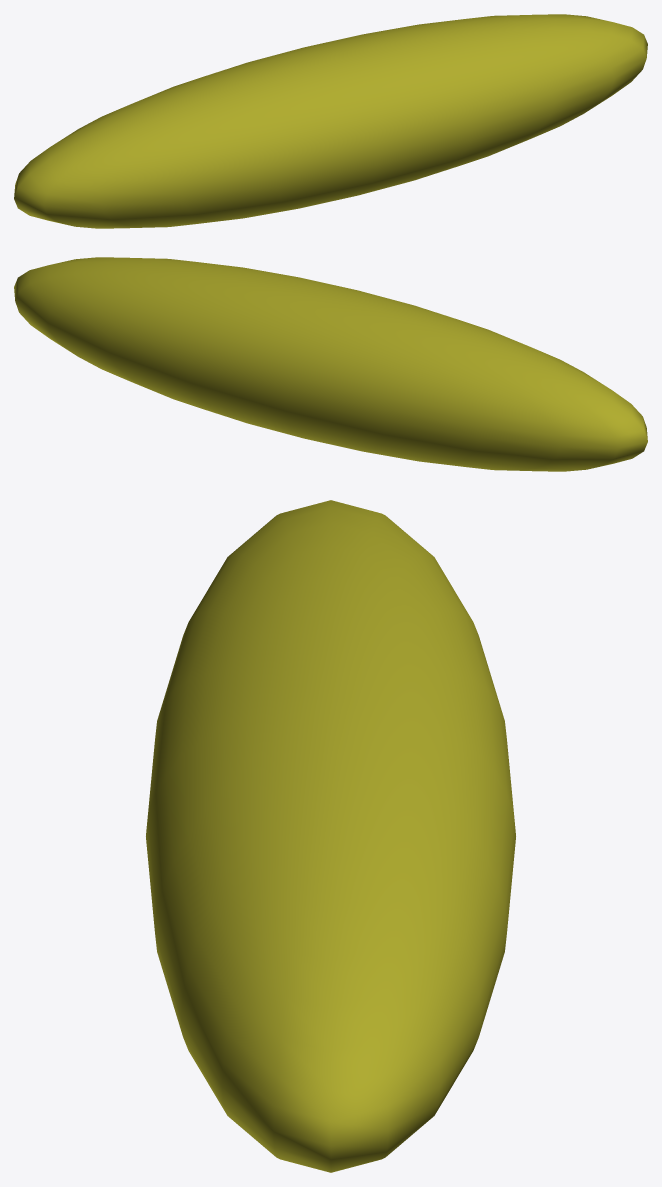
The model's file is tama.fbx.
The picture shows the model from 3 angles, top to bottom: view 1: azimuth 30°, elevation 25°; view 2: azimuth 150°, elevation 25°; view 3: azimuth 270°, elevation 25°; orthographic projection. The views are drawn at different scales.
Parts seen in each view (by area): view 1: pSphere1; view 2: pSphere1; view 3: pSphere1.
Part boxes in pixels (x1,y1,x2,y2): pSphere1: (14,14,647,228); pSphere1: (14,257,647,471); pSphere1: (146,500,515,1172).
Bounding box in the file's own units: 3.34 × 0.6728 × 0.8439.
